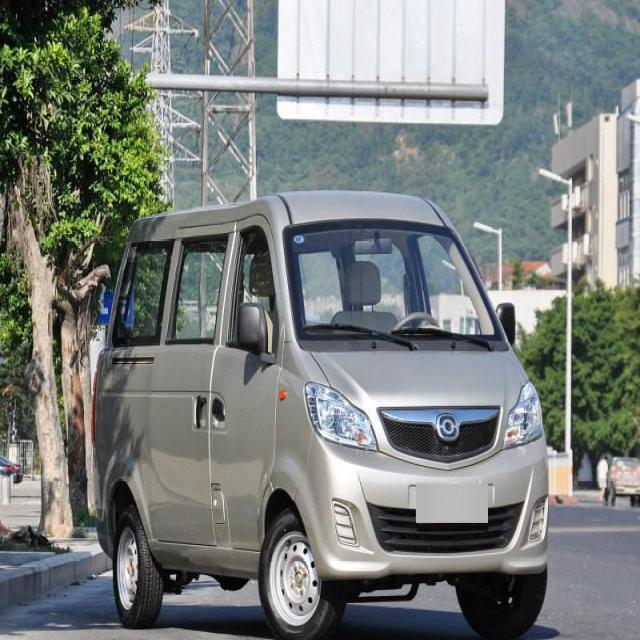door: (140, 220, 238, 544)
front_bumper: (291, 430, 551, 583)
front_glass: (282, 217, 508, 349)
front_left_side_light: (501, 377, 545, 453)
front_left_side_mirror: (495, 297, 519, 344)
front_right_side_door: (207, 213, 288, 552)
front_right_side_light: (303, 378, 379, 453)
front_right_side_mirror: (230, 300, 274, 361)
wheel: (258, 509, 341, 639), (114, 507, 162, 627)
